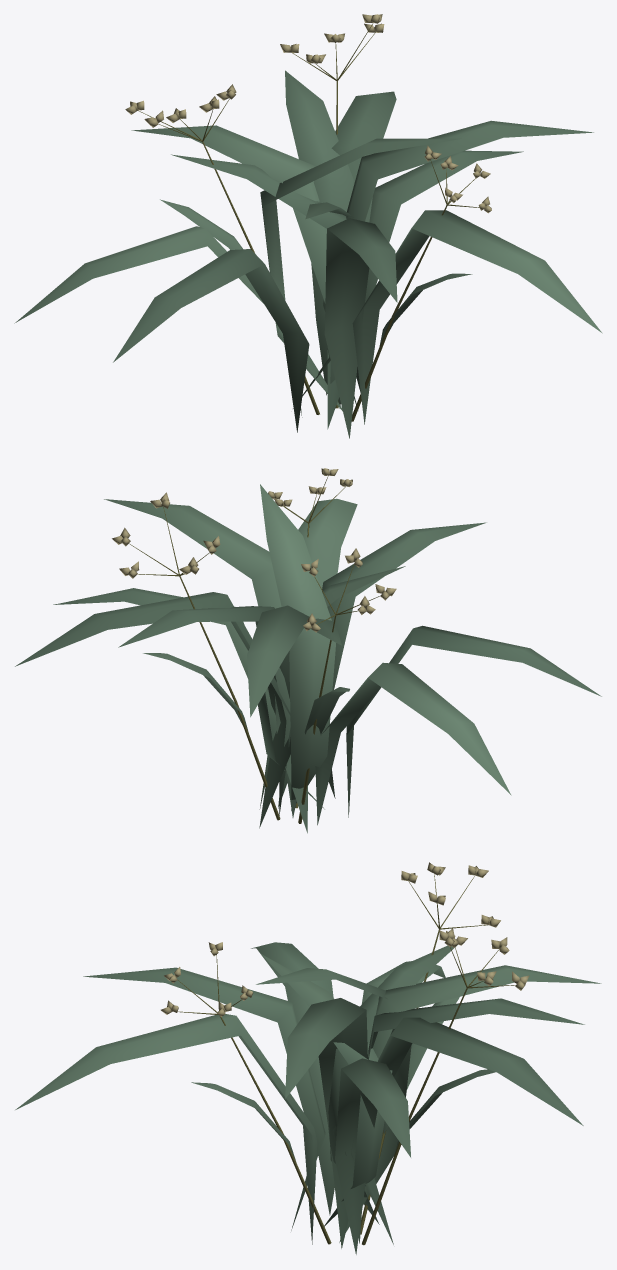
File: silver_oat_grass.glb
3 renders of one model, top to bottom at view 1: azimuth 30°, elevation 25°; view 2: azimuth 150°, elevation 25°; view 3: azimuth 270°, elevation 25°, orthographic. The views are drawn at different scales.
Visible parts, largest first — view 1: silver_oat_grass; view 2: silver_oat_grass; view 3: silver_oat_grass.
Boxes of the visible parts, x1=… form: silver_oat_grass: x1=14, y1=14, x2=602, y2=438; silver_oat_grass: x1=15, y1=468, x2=601, y2=833; silver_oat_grass: x1=15, y1=862, x2=601, y2=1254.
Size of the model in its own units: 0.887 by 0.5869 by 0.886.
